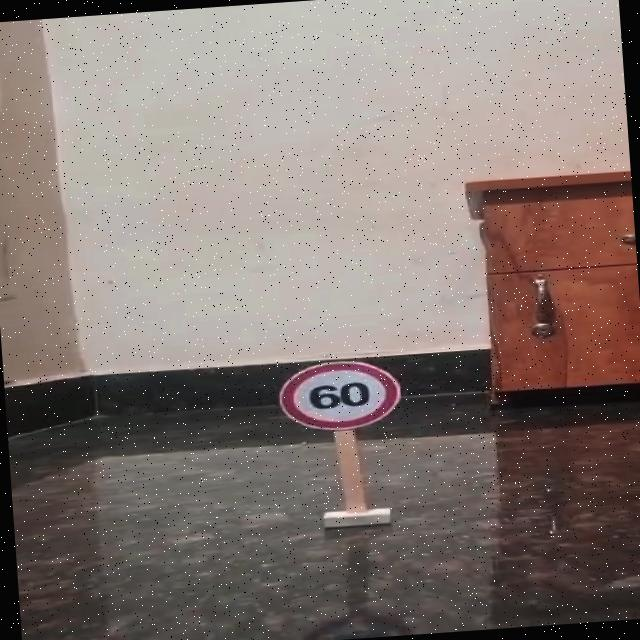Speed60: (270, 354, 407, 436)
